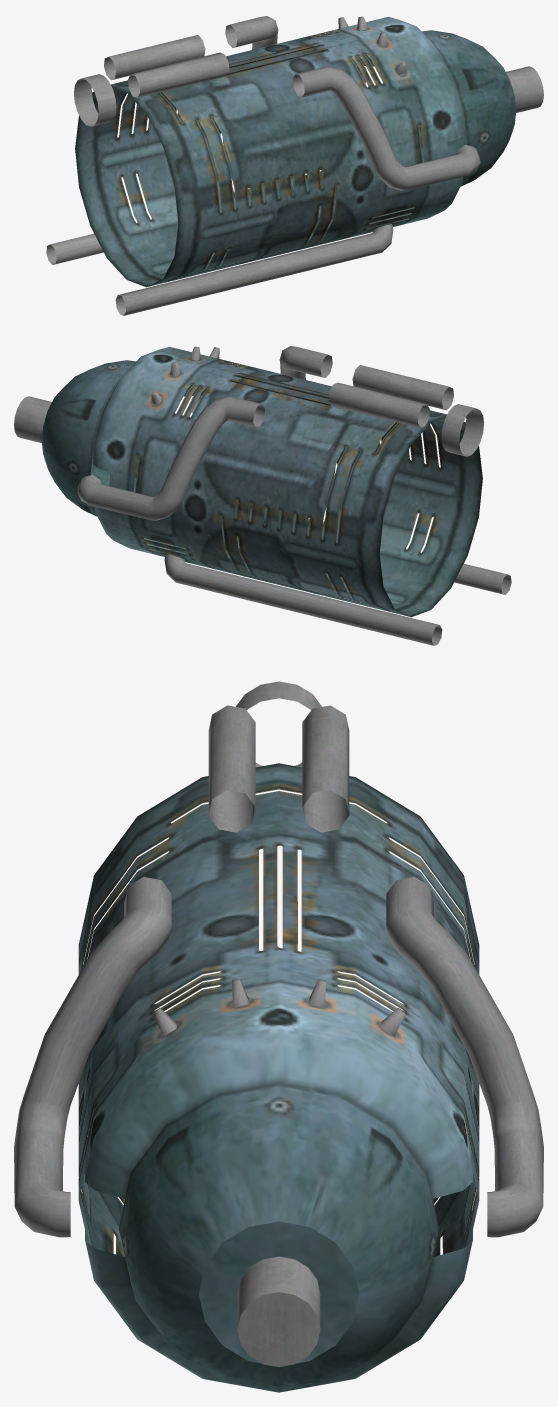
The model's file is ship_component_engine_s01_l0.fbx.
3 renders of one model, top to bottom at view 1: azimuth 30°, elevation 25°; view 2: azimuth 150°, elevation 25°; view 3: azimuth 270°, elevation 25°, orthographic. The views are drawn at different scales.
Parts seen in each view (by area): view 1: mesh_node; view 2: mesh_node; view 3: mesh_node.
Boxes of the visible parts, bbox=[...] form: mesh_node: bbox=[46, 16, 543, 315]; mesh_node: bbox=[14, 346, 511, 645]; mesh_node: bbox=[14, 681, 543, 1392].
Size of the model in its own units: 2.8 by 1.19 by 1.32.
